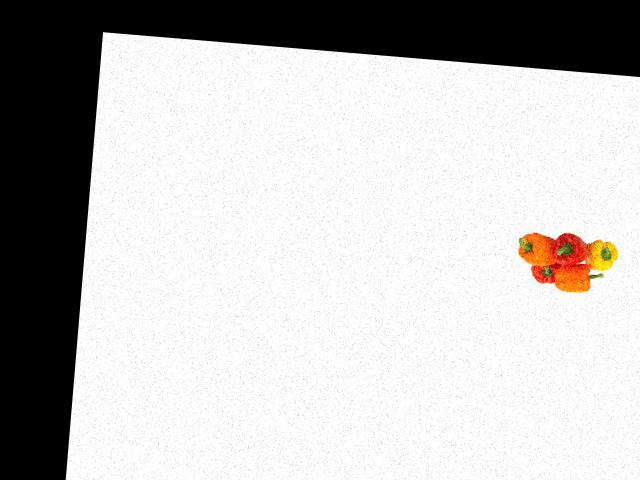bell_pepper: (508, 227, 560, 270)
